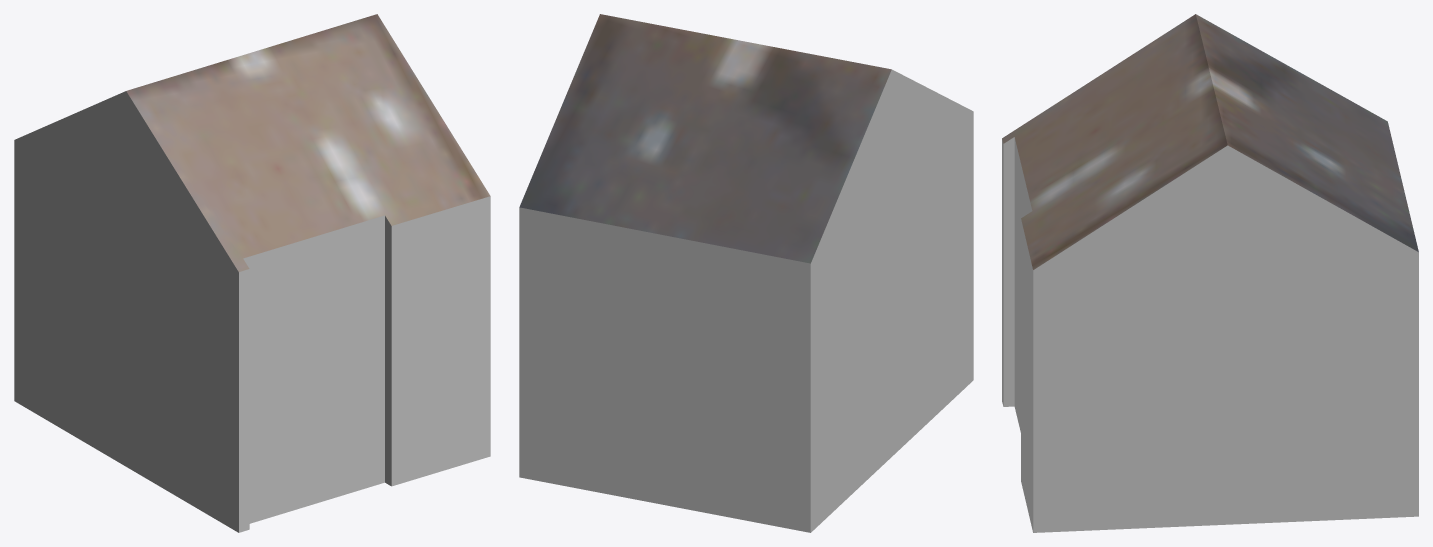
The model's file is DEBW_0010007Txdm.gltf.
3 views of the same model, side by side, from view 1: azimuth 30°, elevation 25°; view 2: azimuth 150°, elevation 25°; view 3: azimuth 270°, elevation 25° (orthographic). The views are drawn at different scales.
Visible parts, largest first — view 1: Z_UP; view 2: Z_UP; view 3: Z_UP.
Boxes of the visible parts, left/top/right/bottom form: Z_UP: left=14, top=14, right=490, bottom=532; Z_UP: left=519, top=14, right=973, bottom=532; Z_UP: left=1002, top=14, right=1418, bottom=532.
Size of the model in its own units: 9.21 by 11.01 by 10.97.
Materials: 2 (1 with a texture image).
